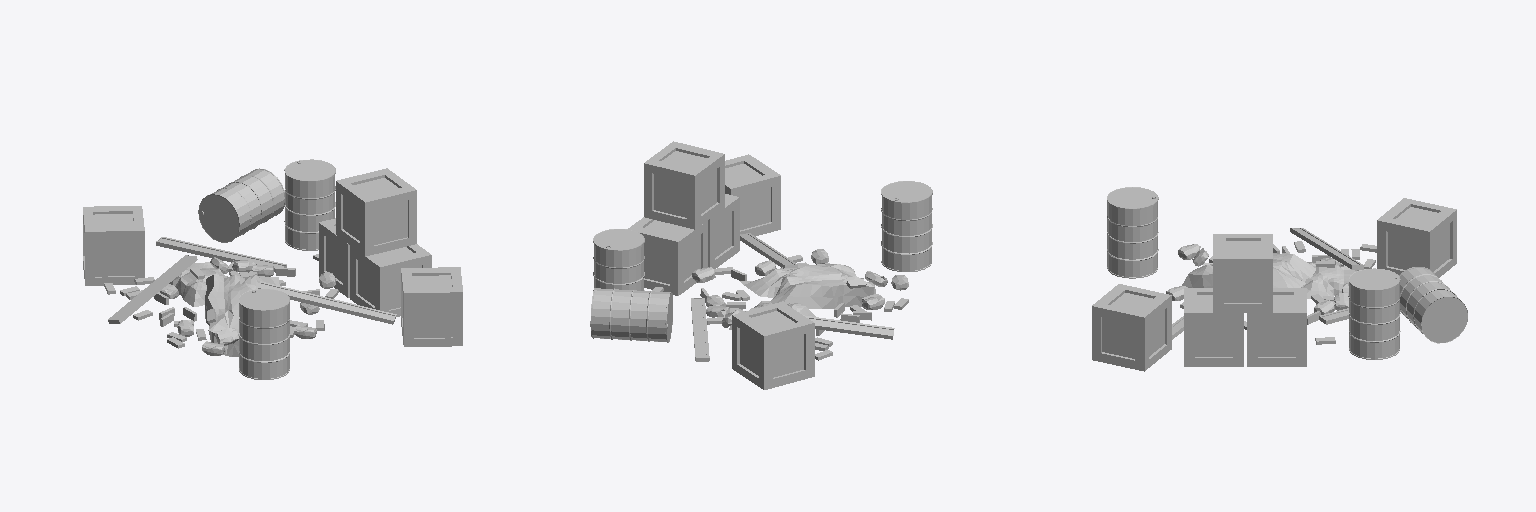
Rendered from robotspawncamp2_high.obj.
The picture shows the model from 3 angles: view 1: azimuth 30°, elevation 25°; view 2: azimuth 150°, elevation 25°; view 3: azimuth 270°, elevation 25°; orthographic projection.
Visible parts, largest first — view 1: pCube49, pCube50, pCube51, pCylinder2, pCylinder1, boxxe:pCylinder1, pCube48, pCube2, boxwood:pCube1, pCube4, pCube47, pCube1 (+1 smaller); view 2: pCube51, pCube49, pCylinder2, boxwood:pCube1, pCylinder1, pCube2, pCube50, boxxe:pCylinder1, pCube48, pCube47, pCube3, pCube4; view 3: pCube50, pCube51, pCube49, pCylinder2, boxxe:pCylinder1, boxwood:pCube1, pCube48, pCylinder1, pCube2, pCube1, pCube47.
Part boxes in pixels (x1,y1,x2,y2): pCube49: (336, 168, 416, 256); pCube50: (401, 267, 462, 346); pCube51: (83, 206, 144, 285); pCylinder2: (239, 289, 289, 379); pCylinder1: (198, 168, 284, 242); boxxe:pCylinder1: (284, 159, 335, 250); pCube48: (350, 244, 431, 316); pCube2: (205, 275, 279, 356); boxwood:pCube1: (319, 218, 349, 297); pCube4: (258, 281, 396, 324); pCube47: (108, 255, 197, 323); pCube1: (169, 262, 227, 306); pCube51: (732, 302, 814, 389); pCube49: (644, 141, 724, 229); pCylinder2: (881, 181, 932, 271); boxwood:pCube1: (628, 217, 707, 295); pCylinder1: (590, 288, 672, 342); pCube2: (740, 263, 875, 308); pCube50: (725, 154, 780, 236); boxxe:pCylinder1: (593, 229, 644, 290); pCube48: (708, 194, 739, 268); pCube47: (803, 315, 894, 339); pCube3: (691, 298, 709, 361); pCube4: (740, 233, 797, 268); pCube50: (1092, 284, 1171, 371); pCube51: (1377, 198, 1456, 277); pCube49: (1213, 234, 1272, 312); pCylinder2: (1107, 187, 1158, 278); boxxe:pCylinder1: (1349, 268, 1400, 359); boxwood:pCube1: (1247, 288, 1306, 366); pCube48: (1184, 288, 1243, 366); pCylinder1: (1399, 267, 1467, 343); pCube2: (1182, 253, 1315, 287); pCube1: (1301, 262, 1358, 298); pCube47: (1290, 228, 1364, 269).
Size of the model in its own units: 22.34 by 9.23 by 26.65.